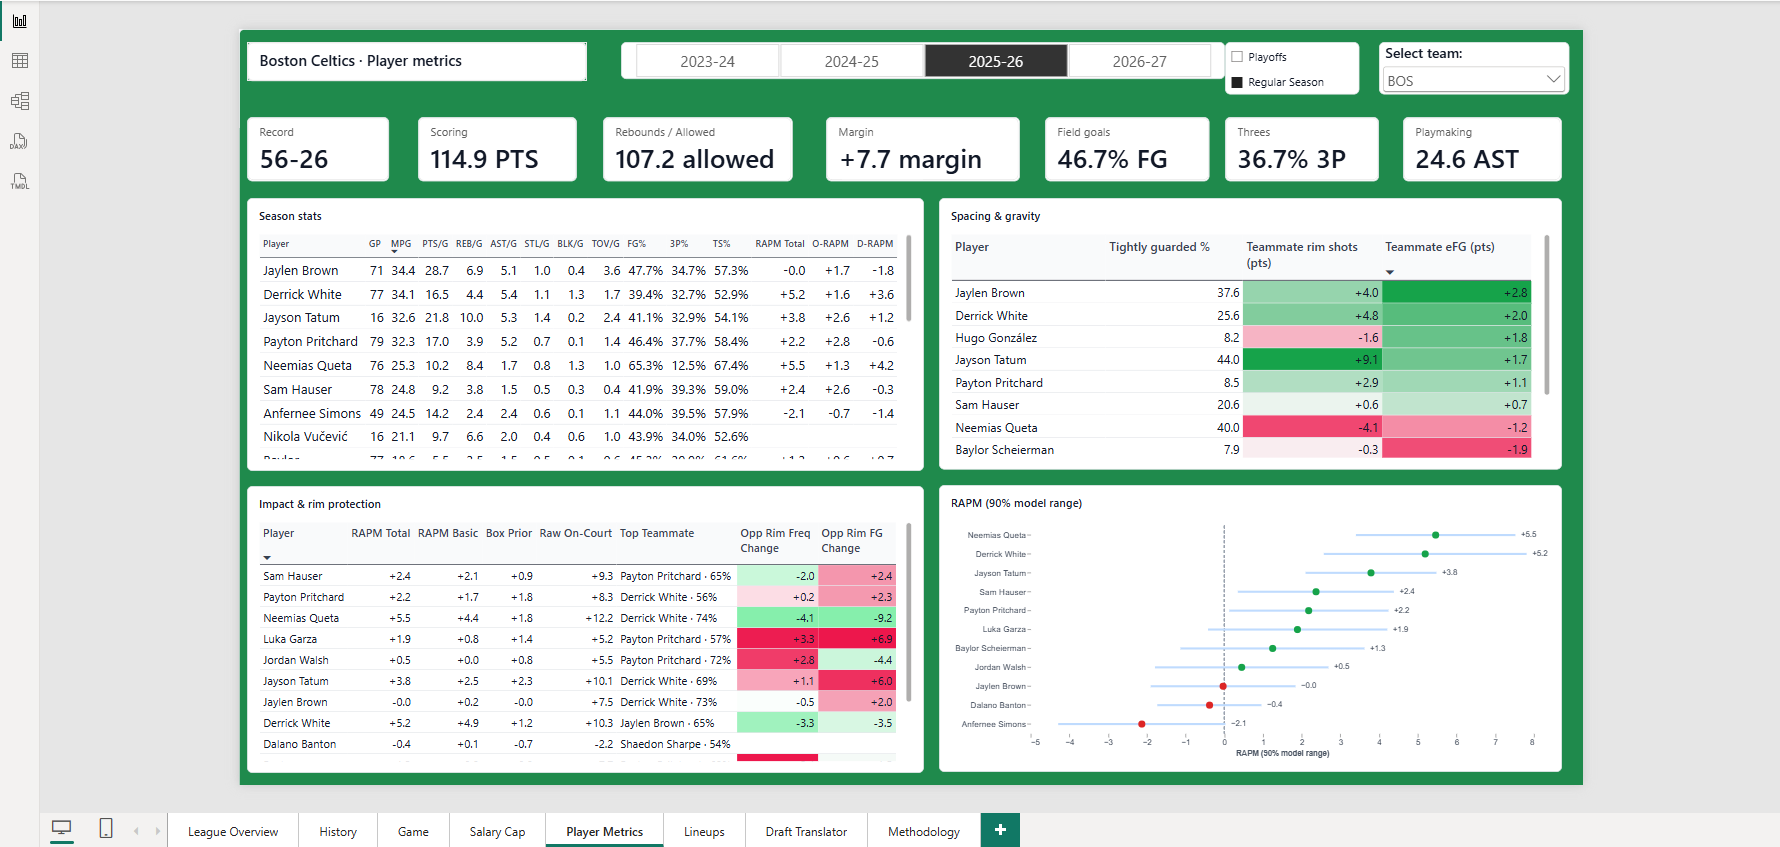

This screenshot's page, from the dashboard's own definition file:
{"tool":"powerbi","page":{"name":"Player Metrics","canvas":[2000,1440],"ordinal":4},"visuals":[{"type":"slicer","fields":{"Values":["Seasons.season"]},"box":[0,0,880.4,90.2],"z":0},{"type":"slicer","fields":{"Values":["GameList.season_type"]},"box":[932,0,1048,90],"z":1000},{"type":"cardVisual","fields":{"Data":["GameList.KPI Record"]},"box":[27.5,170.6,217.6,92.2],"z":2000},{"type":"cardVisual","fields":{"Data":["GameList.KPI Points"]},"box":[288.2,170.6,227.5,92.2],"z":3000},{"type":"cardVisual","fields":{"Data":["GameList.KPI Rebounds or Allowed"]},"box":[545.1,170.6,270.6,92.2],"z":4000},{"type":"cardVisual","fields":{"Data":["GameList.KPI Plus Minus"]},"box":[854.9,170.6,247.1,92.2],"z":5000},{"type":"cardVisual","fields":{"Data":["GameList.KPI FG"]},"box":[1142.5,170.6,203.9,92.2],"z":6000},{"type":"cardVisual","fields":{"Data":["GameList.KPI 3P"]},"box":[1408.5,170.6,203.9,92.2],"z":7000},{"type":"cardVisual","fields":{"Data":["GameList.KPI Assists"]},"box":[1674.5,170.6,203.9,92.2],"z":8000},{"type":"tableEx","fields":{"Values":["Players.Player","PlayerBox.GP","PlayerBox.MPG","PlayerBox.PTS/G","PlayerBox.REB/G","PlayerBox.AST/G","PlayerBox.STL/G","PlayerBox.BLK/G","PlayerBox.TOV/G","PlayerBox.FG%","PlayerBox.3P%","PlayerBox.TS%"]},"box":[12,276,988,574],"z":9000},{"type":"textbox","box":[0,105.9,773,50],"z":10000},{"type":"deneb7E15AEF80B9E4D4F8E12924291ECE89A","fields":{"dataset":["RAPM.player_id","RAPM.player_name","RAPM.rapm","RAPM.rapm_low","RAPM.rapm_high"]},"box":[1020,276,960,574],"z":11000},{"type":"tableEx","fields":{"Values":["Players.Player","RAPM.RAPM Total","RAPM.RAPM Basic","RAPM.Box Prior","RAPM.Raw On-Court","RAPM.Top Teammate","OnOff.Opp Rim Freq Change","OnOff.Opp Rim FG Change"]},"box":[12,872,988,510],"z":12000},{"type":"textbox","box":[11.1,1381.5,831.5,29.6],"z":13000},{"type":"tableEx","title":"Spacing & gravity","fields":{"Values":["Players.Player","Spacing.Tightly Guarded %","Spacing.Teammate Rim Change","Spacing.Teammate eFG Change"]},"box":[1020,872,960,510],"z":13001},{"type":"textbox","box":[1020,1382,960,58],"z":13003}]}

Visuals, with their boxes on the page's 2000x1440 design canvas (x1, y1, x2, y2). These are canvas units, not pixel positions in the 1780x847 screenshot, which may show the page scaled, cropped or inside an application window:
slicer - Seasons.season: region(0, 0, 880, 90)
slicer - GameList.season_type: region(932, 0, 1980, 90)
cardVisual - GameList.KPI Record: region(28, 171, 245, 263)
cardVisual - GameList.KPI Points: region(288, 171, 516, 263)
cardVisual - GameList.KPI Rebounds or Allowed: region(545, 171, 816, 263)
cardVisual - GameList.KPI Plus Minus: region(855, 171, 1102, 263)
cardVisual - GameList.KPI FG: region(1142, 171, 1346, 263)
cardVisual - GameList.KPI 3P: region(1408, 171, 1612, 263)
cardVisual - GameList.KPI Assists: region(1674, 171, 1878, 263)
tableEx - Players.Player x PlayerBox.GP: region(12, 276, 1000, 850)
textbox: region(0, 106, 773, 156)
deneb7E15AEF80B9E4D4F8E12924291ECE89A - RAPM.player_id x RAPM.player_name: region(1020, 276, 1980, 850)
tableEx - Players.Player x RAPM.RAPM Total: region(12, 872, 1000, 1382)
textbox: region(11, 1382, 843, 1411)
"Spacing & gravity" tableEx: region(1020, 872, 1980, 1382)
textbox: region(1020, 1382, 1980, 1440)
